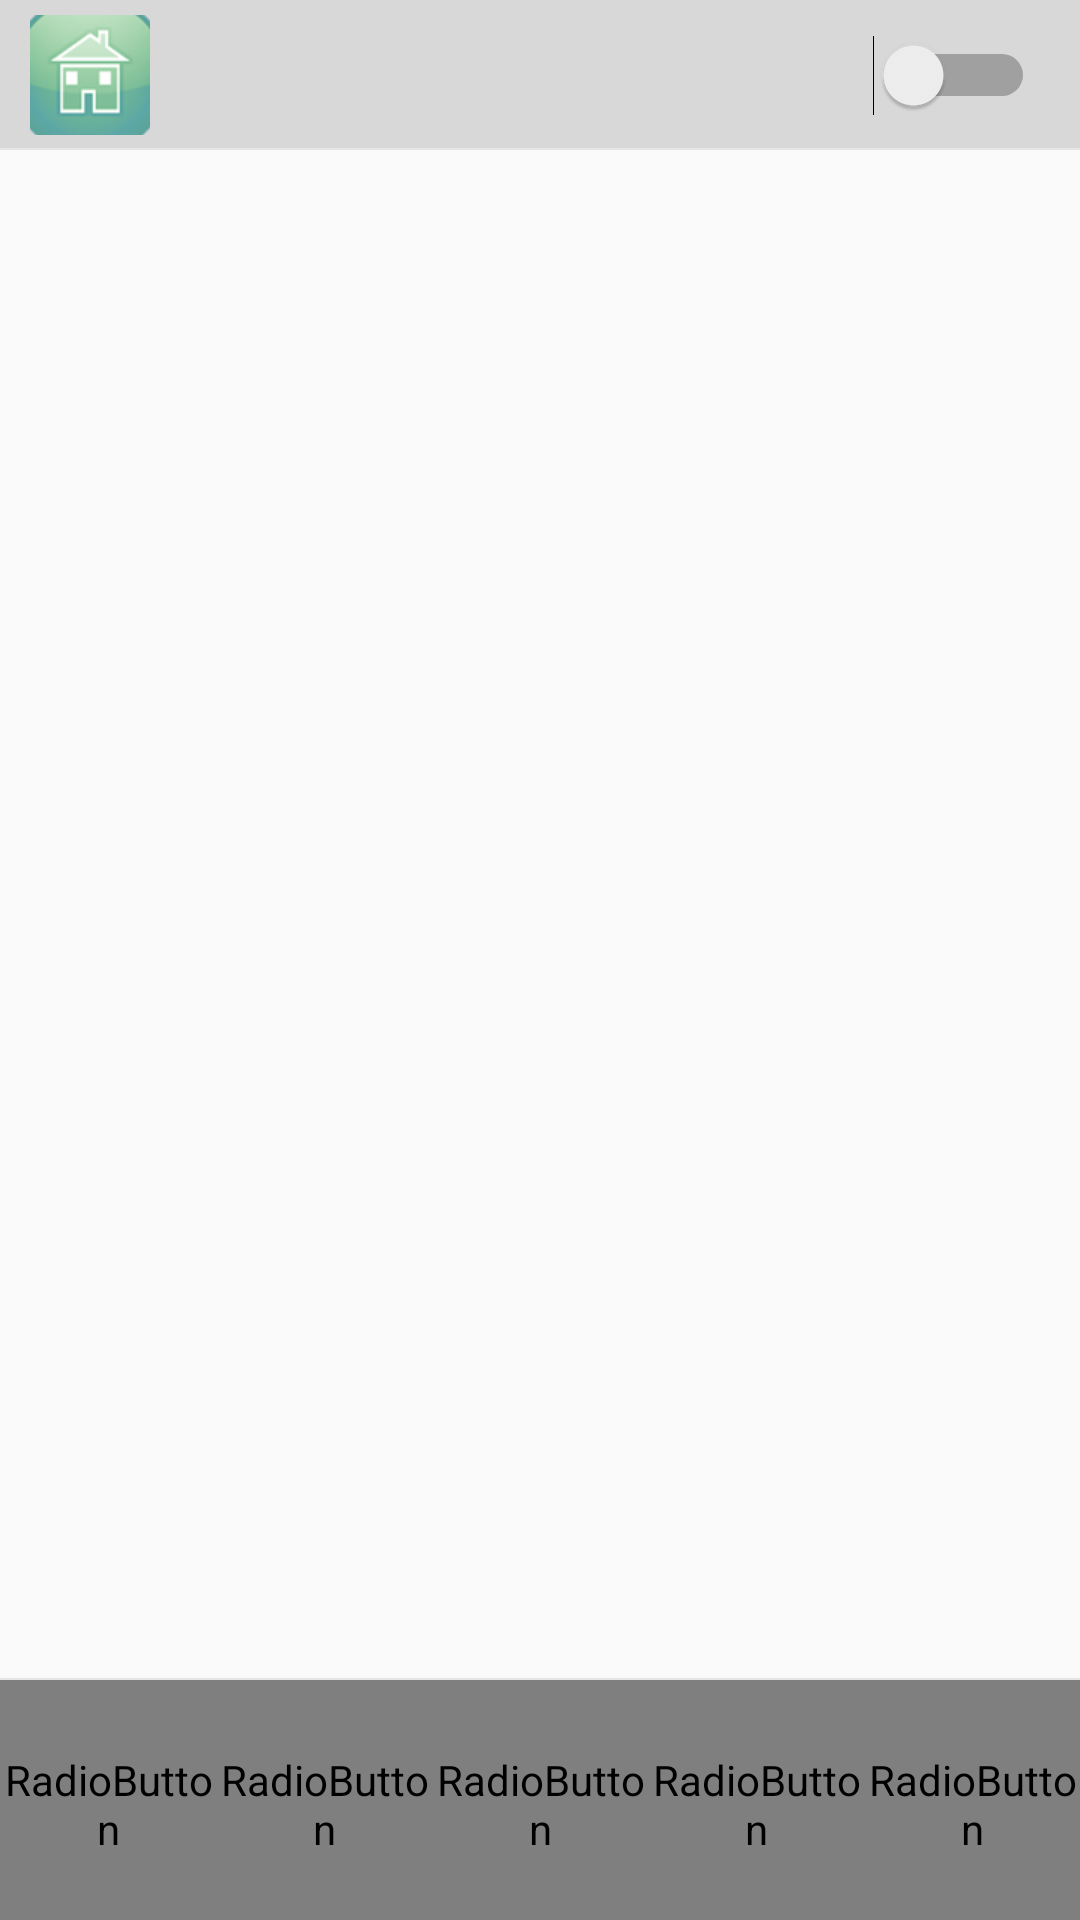

Icons on this 1080x1920 Android screen, each with the point to tap as [x,y]:
index: [90,75]
